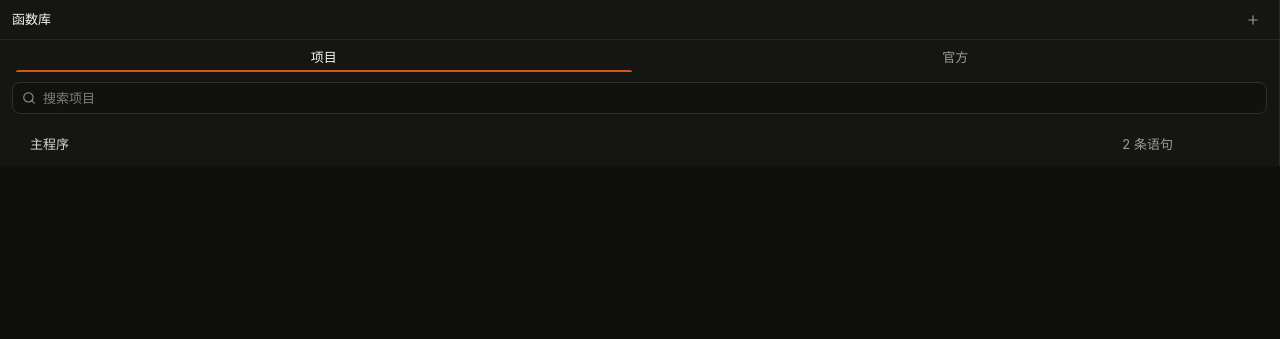
Test: ProgramFunctionLibrary › separates project and available official functions without list-description noise
The image size is (1280, 339).
Click the tab with id "function-tab-official": (955, 58) [640, 44, 1271, 72]
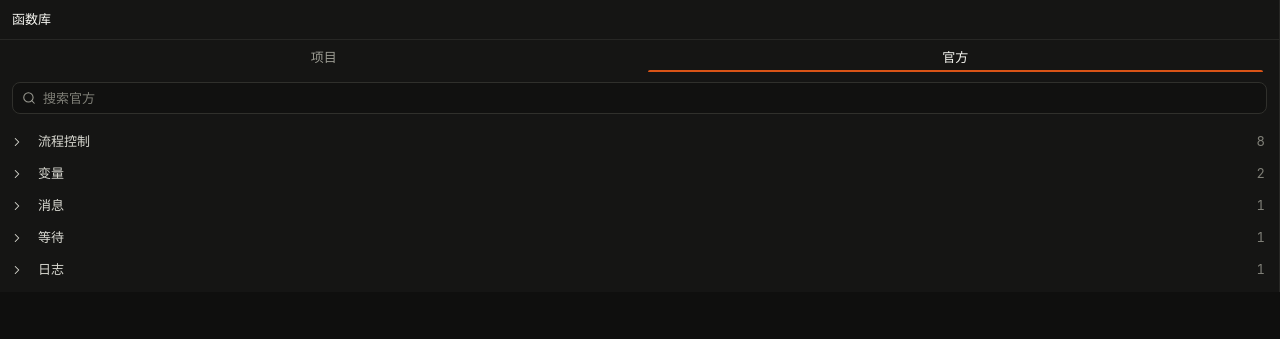
Now the text "日志" is shown, box [38, 261, 64, 277]
Now the text "等待" is shown, box [38, 229, 64, 245]
Click the button with class "group-heading" showing "日志 1": (17, 270) [6, 254, 1273, 286]
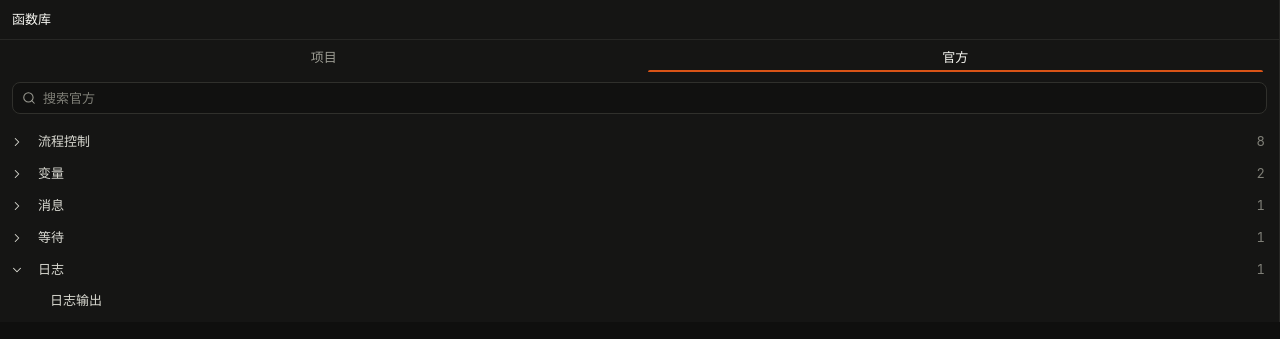
Now the text "输出" is shown, box [50, 291, 102, 311]
